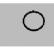no answer: (20, 9, 46, 34)
